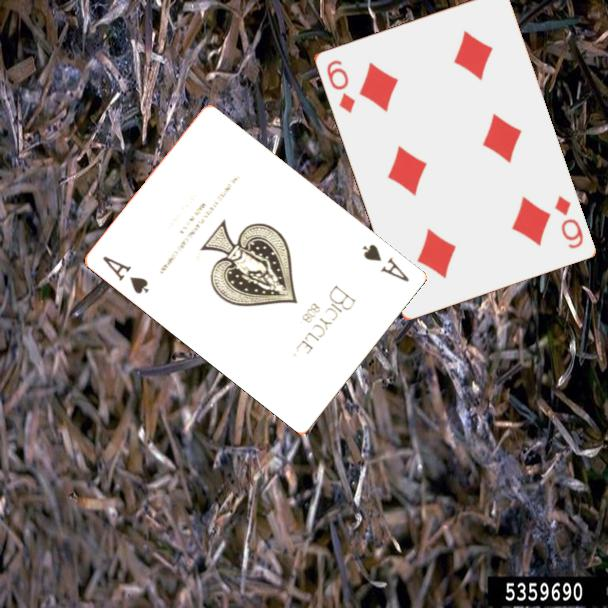d06: (550, 192, 586, 252), (323, 56, 358, 116)
s01: (359, 241, 413, 285), (100, 252, 152, 297)
